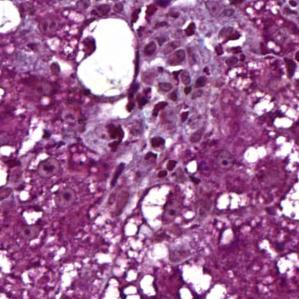ballooning: (74, 17, 136, 99), (138, 183, 173, 234)
